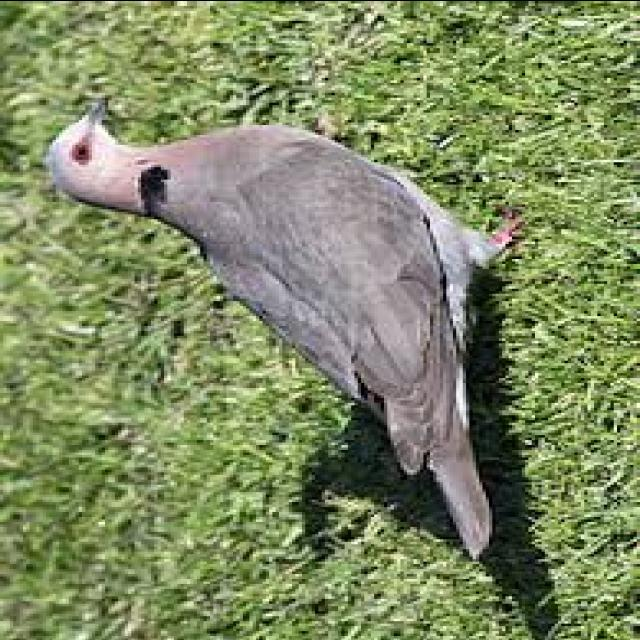pigeon: (31, 92, 538, 559)
